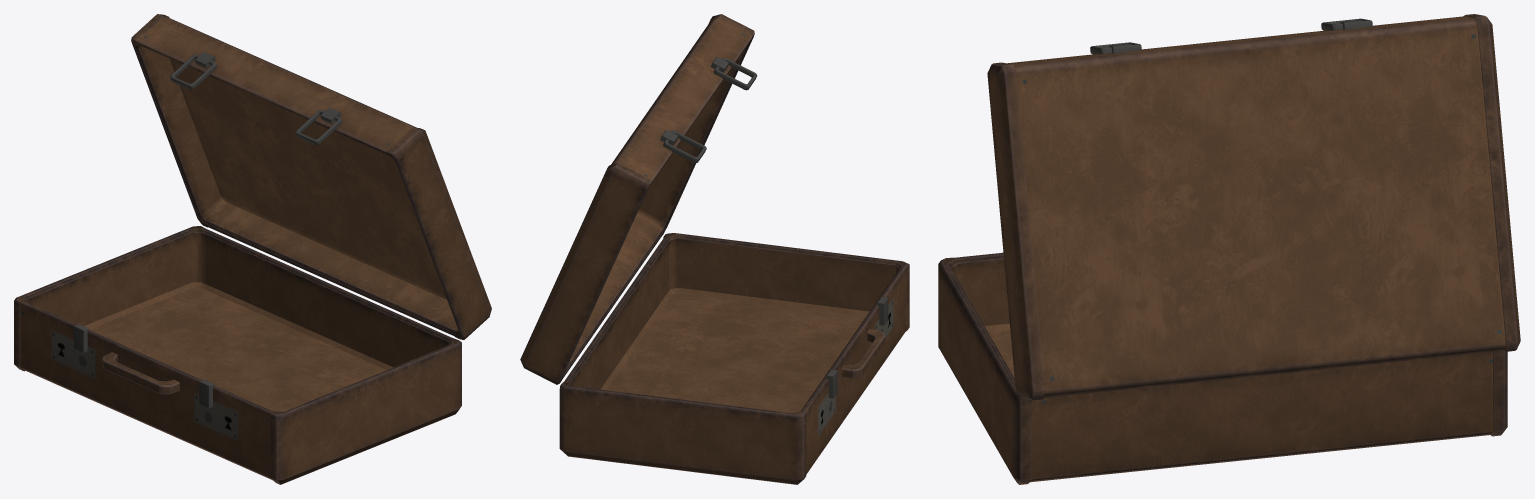
The model's file is Suitcase_3.glb.
3 views of the same model, side by side, from view 1: azimuth 30°, elevation 25°; view 2: azimuth 150°, elevation 25°; view 3: azimuth 270°, elevation 25° (orthographic). The views are drawn at different scales.
Visible parts, largest first — view 1: Object_10; view 2: Object_10; view 3: Object_10.
Part boxes in pixels (bbox=[...]): Object_10: bbox=[14, 14, 491, 484]; Object_10: bbox=[520, 14, 909, 484]; Object_10: bbox=[938, 14, 1520, 484].
Bounding box in the file's own units: 6.38 × 5.55 × 7.47.
Materials: 1 (1 with a texture image).
